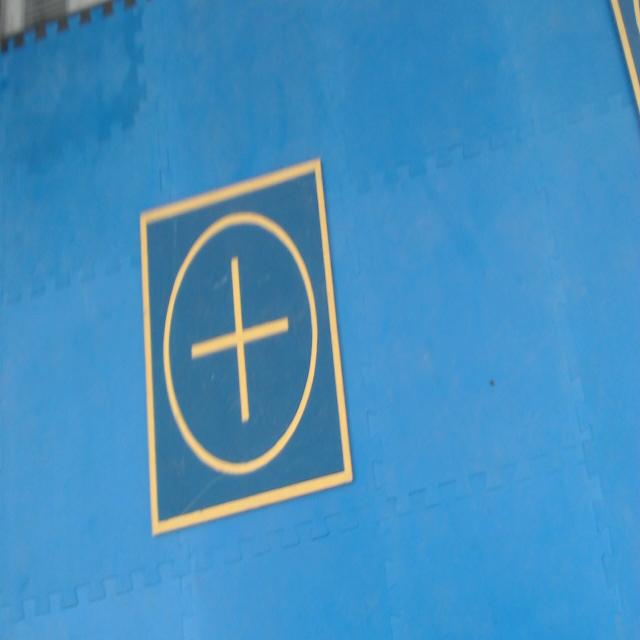base_pouso: (141, 156, 355, 537)
